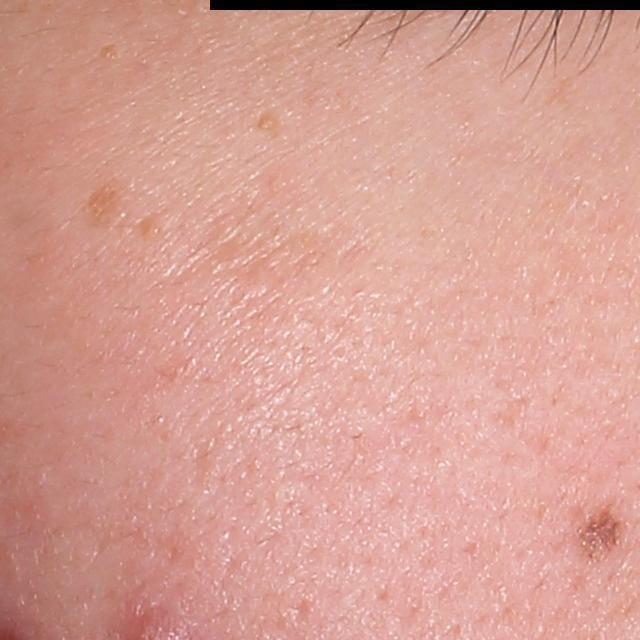melasma: (84, 175, 130, 230), (97, 44, 121, 61)
nevus: (575, 503, 627, 569)
